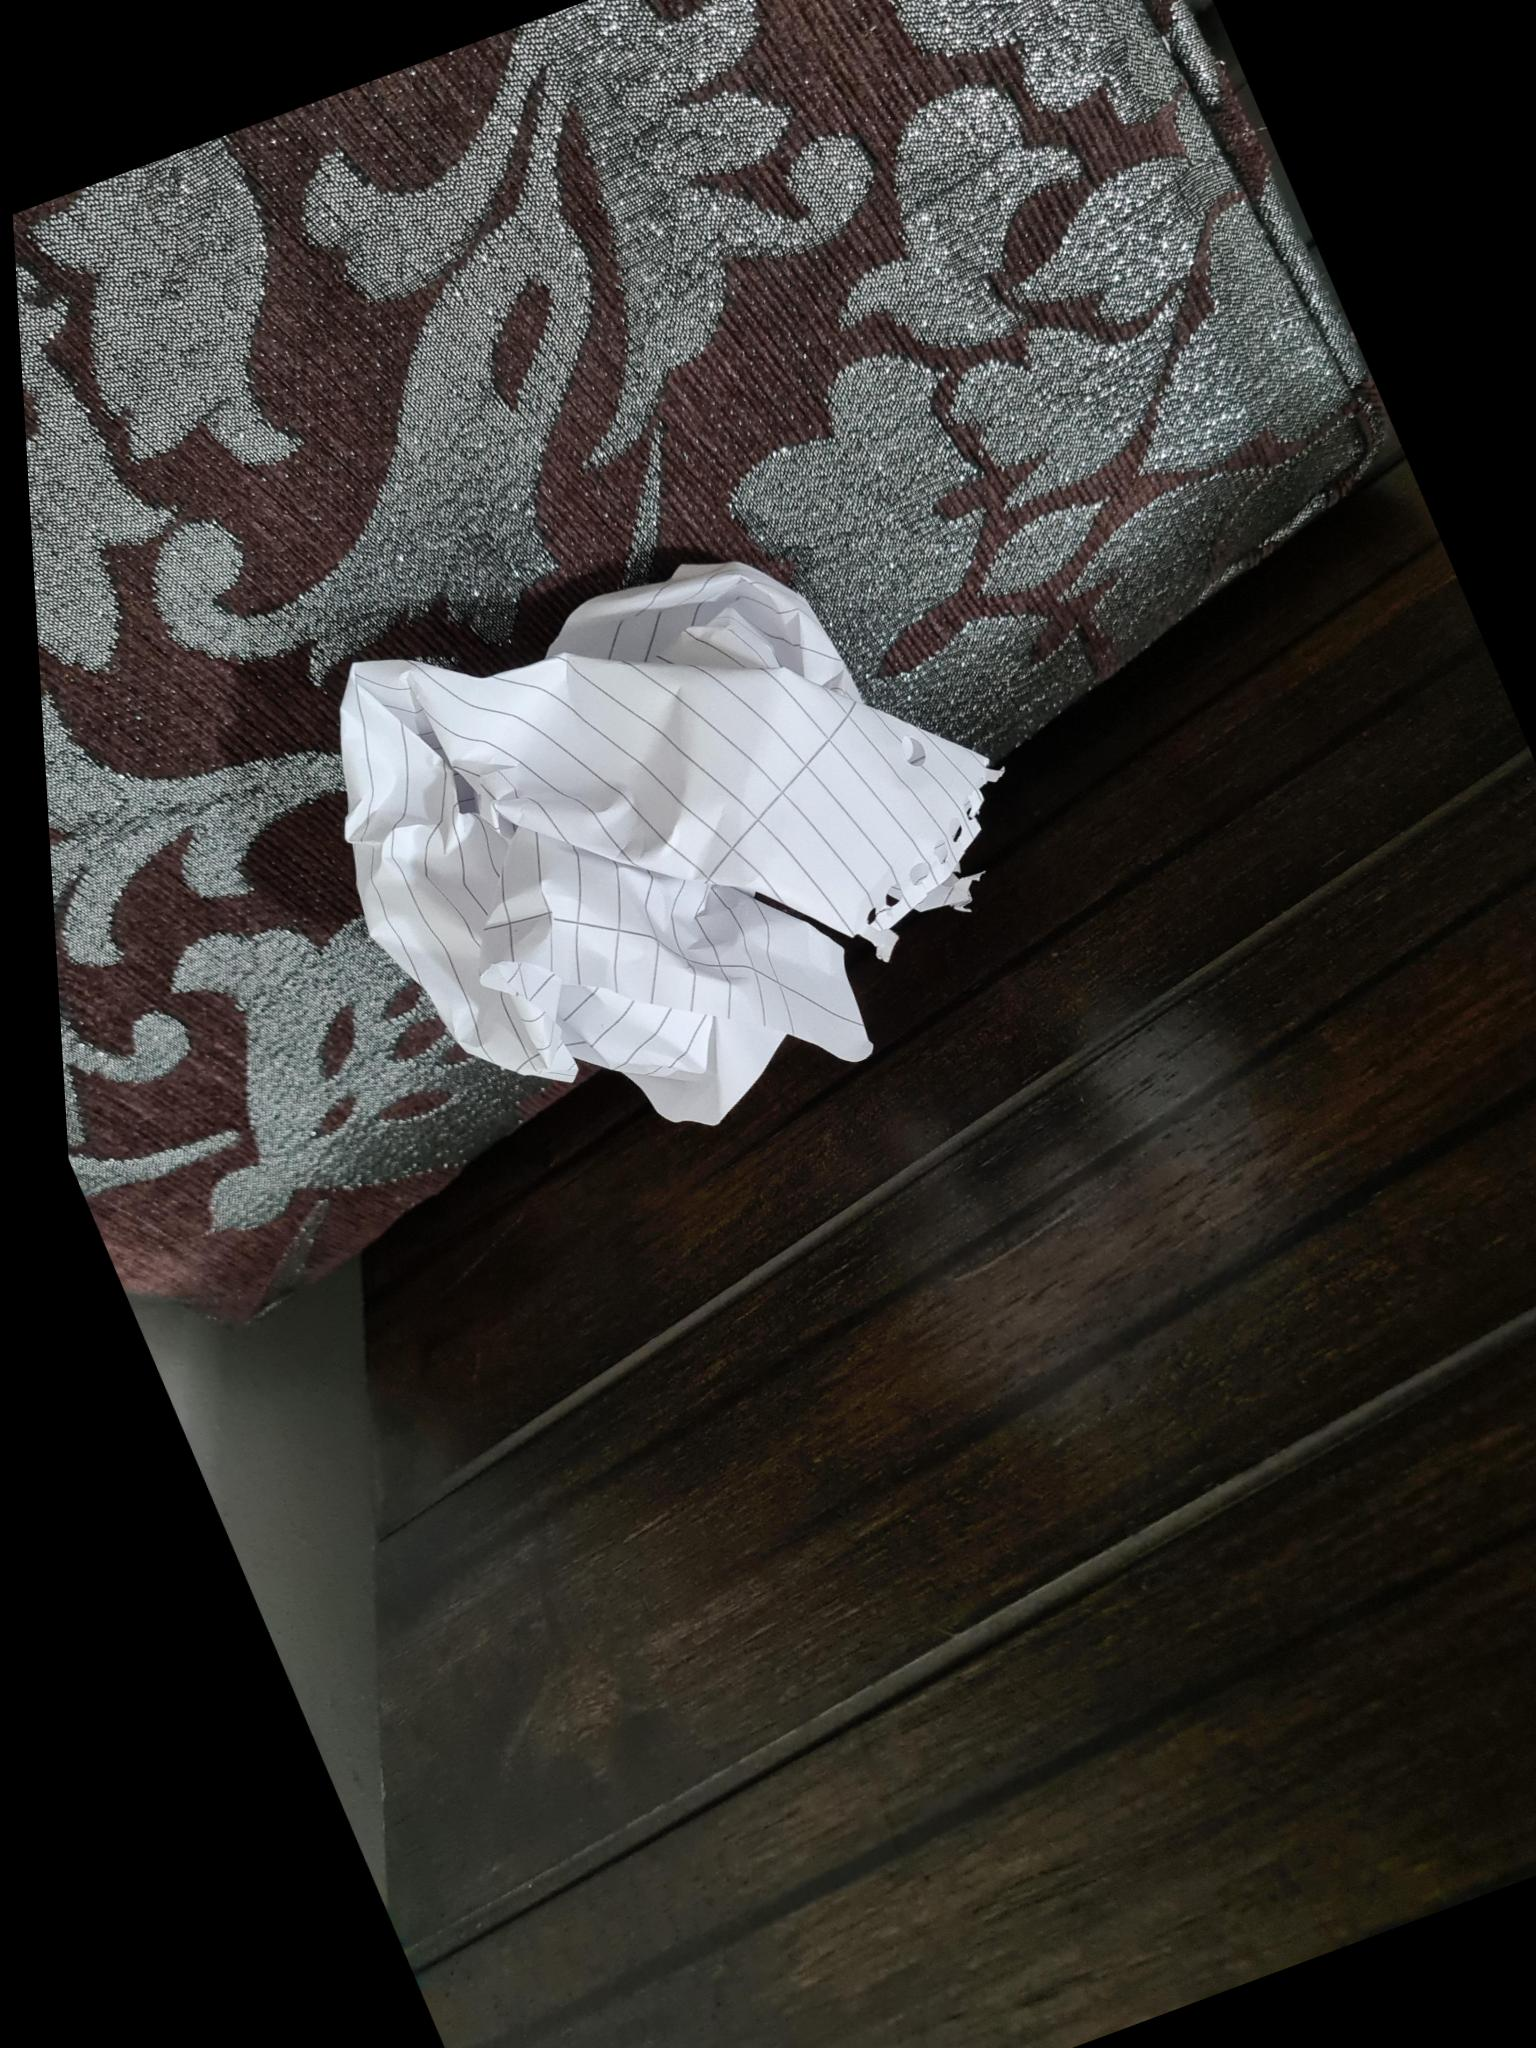paper: (242, 434, 1131, 1200)
